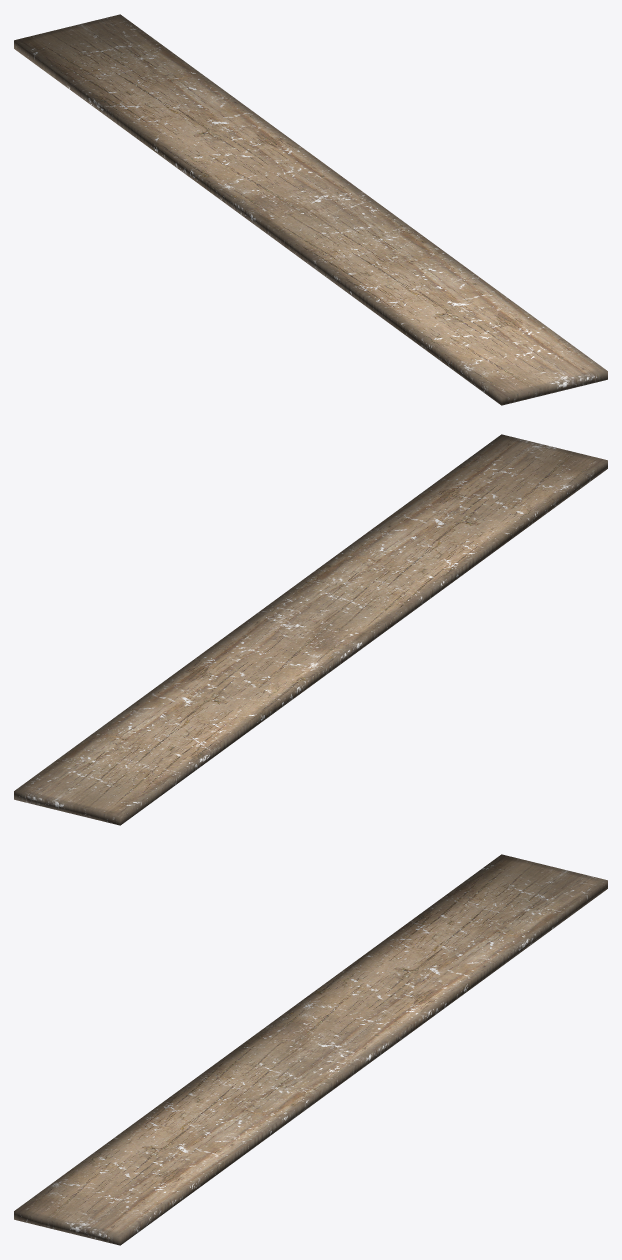
The model's file is plank01.fbx.
The picture shows the model from 3 angles, top to bottom: view 1: azimuth 30°, elevation 25°; view 2: azimuth 150°, elevation 25°; view 3: azimuth 330°, elevation 25°; orthographic projection.
Parts seen in each view (by area): view 1: Box011; view 2: Box011; view 3: Box011.
Boxes of the visible parts, x1=… form: Box011: x1=14, y1=14, x2=607, y2=405; Box011: x1=14, y1=434, x2=607, y2=825; Box011: x1=14, y1=854, x2=607, y2=1245.
Bounding box in the file's own units: 39.41 × 3 × 313.
